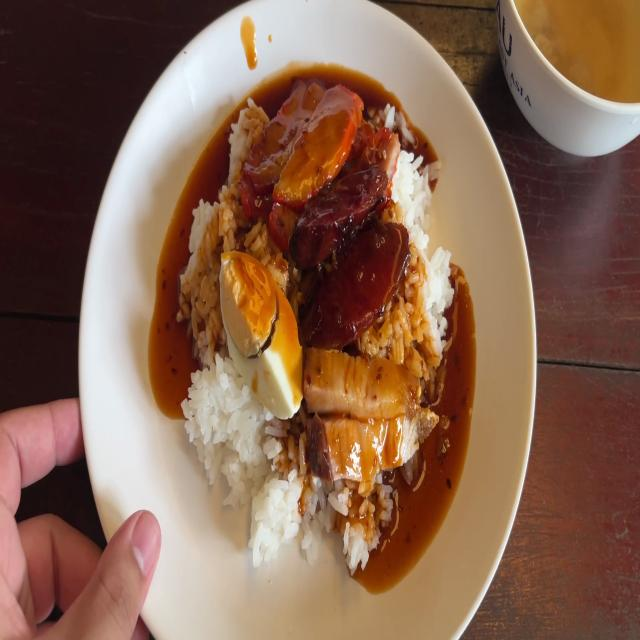01boiled_egg: (222, 248, 300, 416)
01chainese_sausage: (301, 154, 410, 340), (307, 222, 410, 334), (299, 166, 389, 262)
01crispy_pork: (306, 346, 434, 475), (308, 408, 446, 477), (304, 347, 430, 412)
01red_pork: (248, 63, 363, 212), (250, 72, 321, 186), (286, 96, 362, 201)
01red_pork_and_crispy_pork: (178, 83, 456, 565)
01rice: (184, 105, 264, 330), (397, 128, 455, 346), (186, 337, 255, 499), (255, 458, 326, 558), (337, 480, 415, 557)
